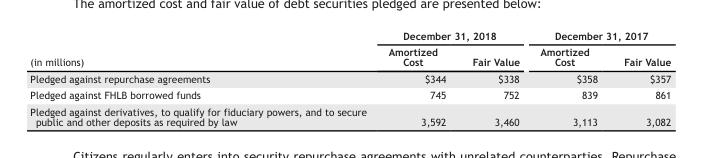table: (29, 29, 670, 126)
table column: (29, 29, 376, 126), (376, 29, 458, 126), (529, 29, 610, 126), (458, 29, 529, 126), (610, 29, 670, 126)
table column header: (29, 29, 670, 69)
table row: (29, 43, 670, 69), (29, 102, 670, 126), (29, 69, 670, 86), (29, 86, 670, 102), (29, 29, 670, 43)
table spanning cell: (29, 29, 376, 69), (376, 29, 529, 43), (529, 29, 670, 43)
